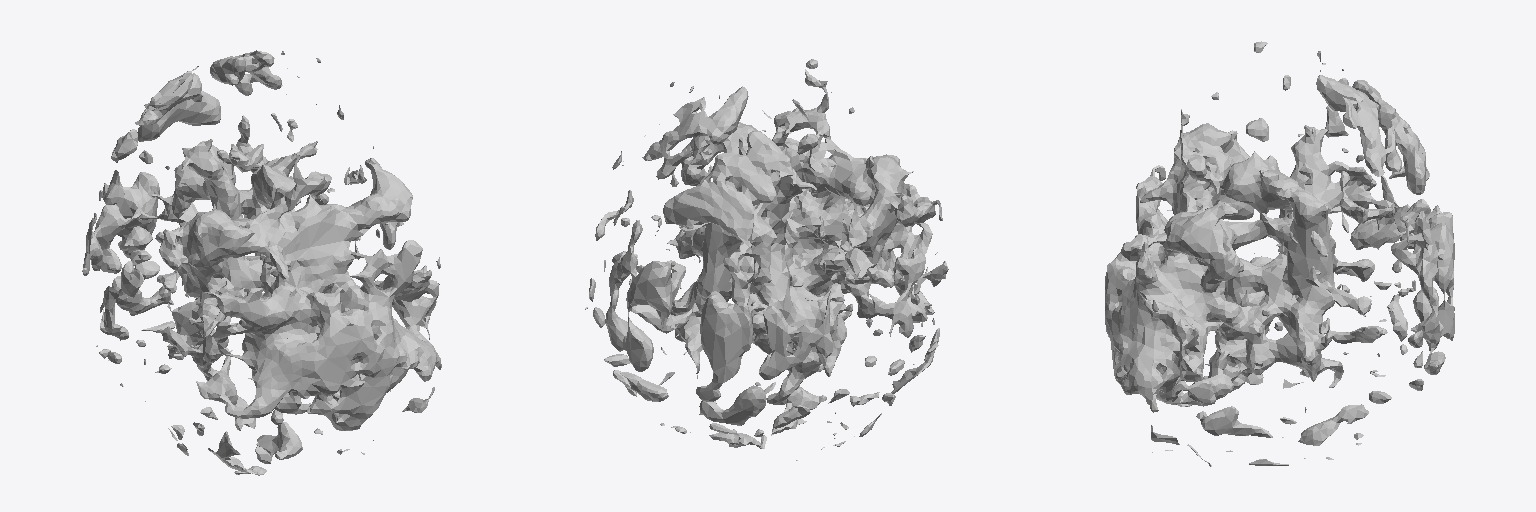
The model's file is Pre.obj.
The picture shows the model from 3 angles: view 1: azimuth 30°, elevation 25°; view 2: azimuth 150°, elevation 25°; view 3: azimuth 270°, elevation 25°; orthographic projection.
Visible parts, largest first — view 1: ascii; view 2: ascii; view 3: ascii.
Part boxes in pixels (bbox=[...]): ascii: bbox=[82, 50, 441, 475]; ascii: bbox=[585, 59, 948, 460]; ascii: bbox=[1105, 41, 1454, 466].
Size of the model in its own units: 139 by 178 by 144.